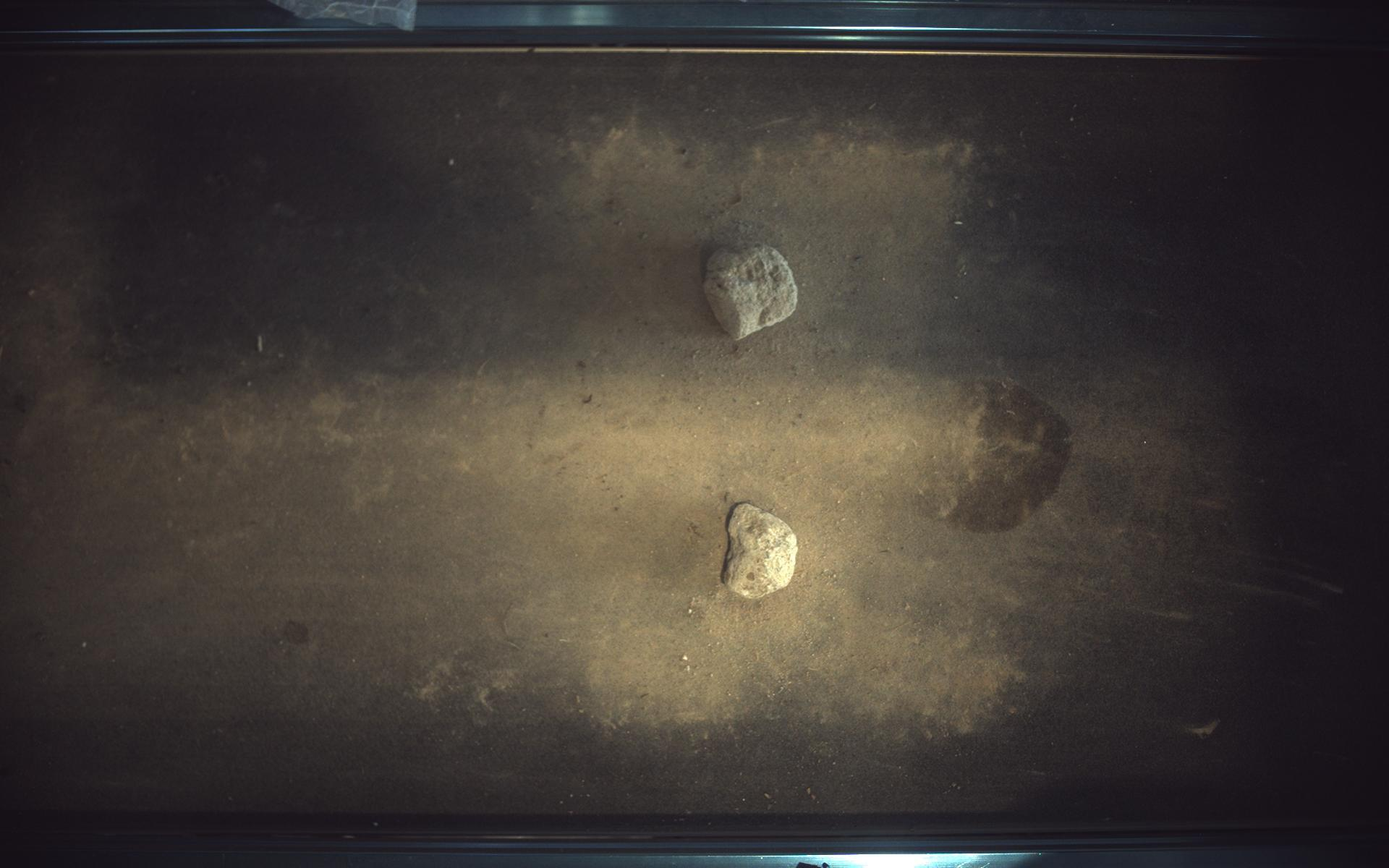stone: (705, 244, 799, 340), (723, 503, 799, 600)
